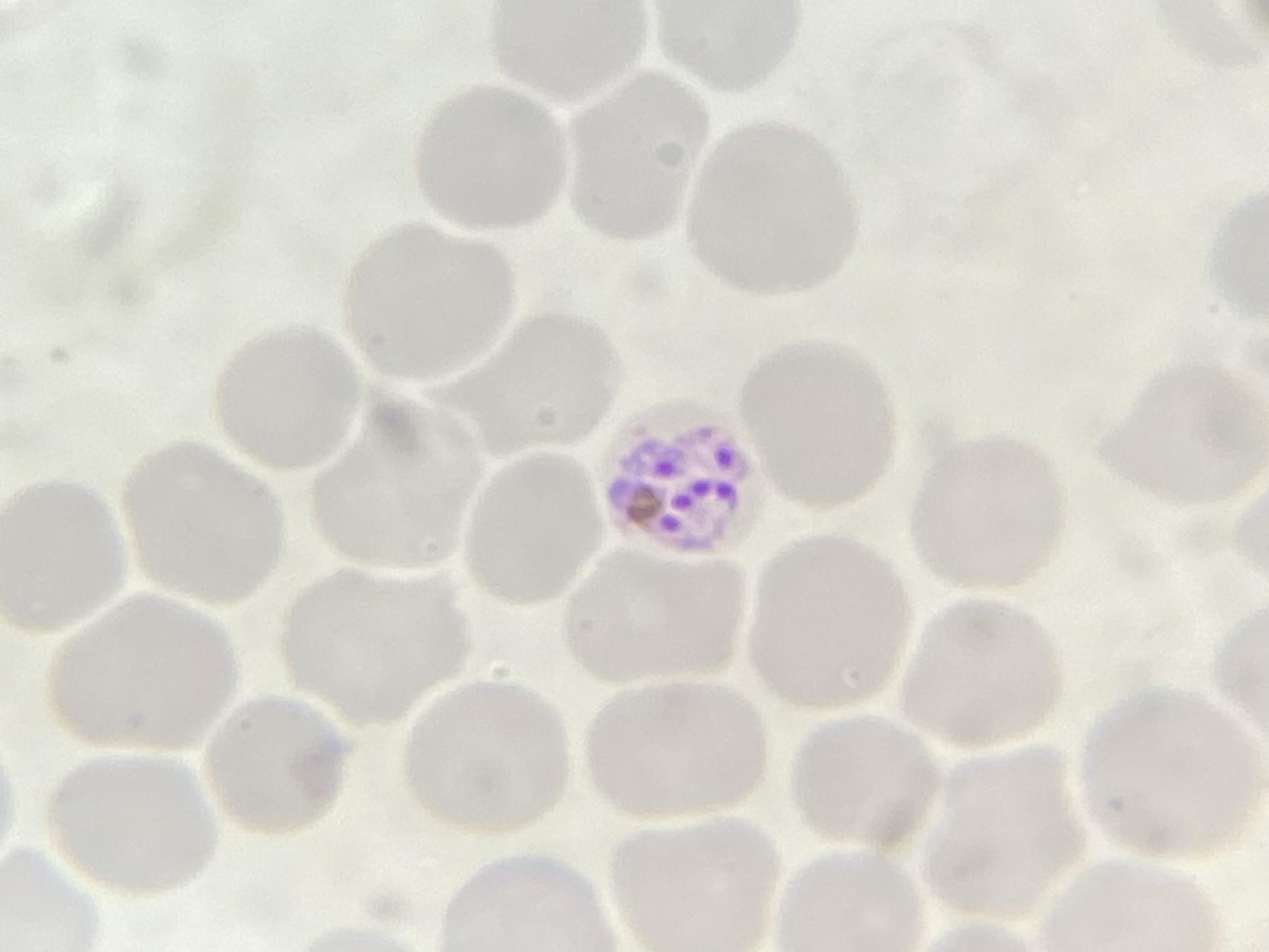Infected: (509, 396, 668, 552)
Uninfected: (2, 91, 188, 262), (790, 374, 966, 551), (412, 653, 584, 829), (1033, 203, 1219, 360), (801, 227, 992, 378), (757, 560, 924, 726), (191, 31, 342, 214), (360, 242, 516, 416), (695, 113, 862, 274), (985, 343, 1142, 508), (553, 716, 707, 881), (1053, 53, 1229, 195), (380, 444, 529, 611), (654, 503, 842, 634), (485, 0, 665, 133), (524, 271, 695, 410), (500, 135, 682, 264), (208, 209, 361, 360), (202, 365, 353, 514), (906, 477, 1055, 624), (1141, 317, 1269, 482), (704, 718, 846, 862), (669, 341, 799, 498), (917, 110, 1061, 246), (338, 99, 473, 233)
